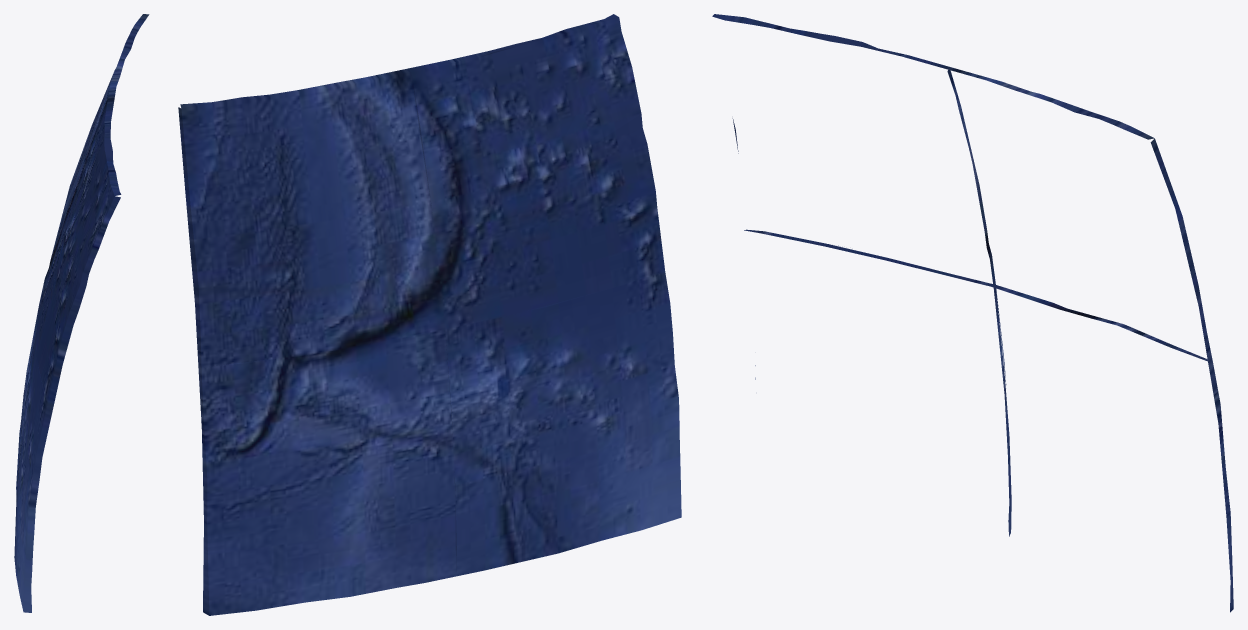
3 views of the same model, side by side, from view 1: azimuth 30°, elevation 25°; view 2: azimuth 150°, elevation 25°; view 3: azimuth 270°, elevation 25° (orthographic). The views are drawn at different scales.
Size of the model in its own units: 1764438 by 2458719 by 2284499.
1 material, 1 textured.
